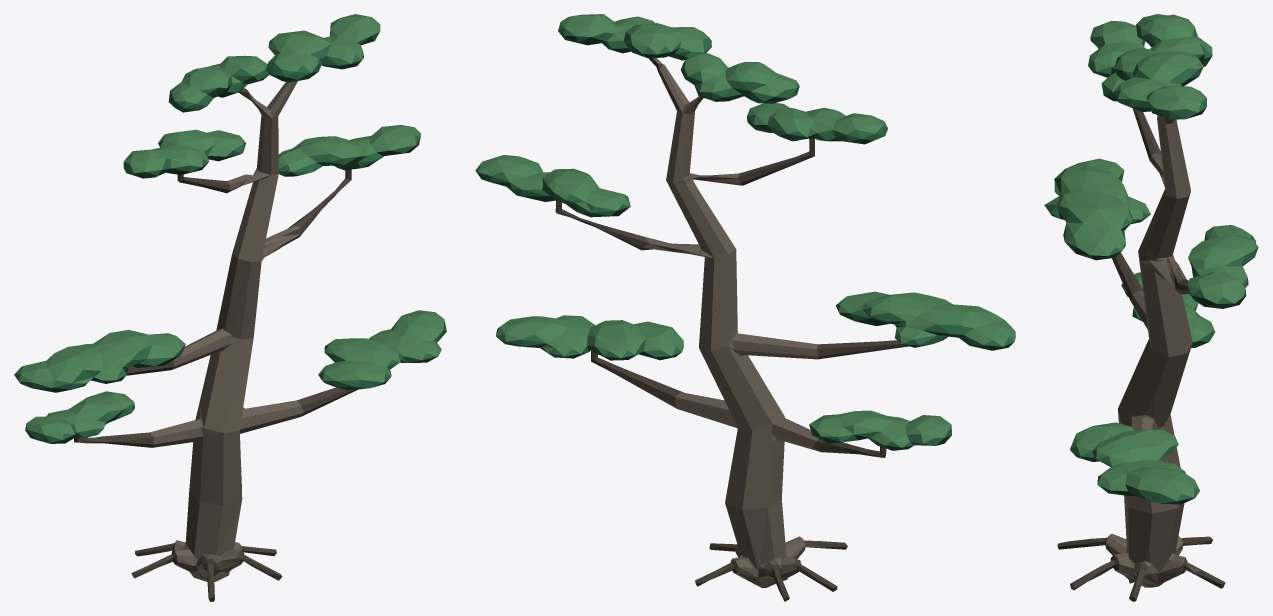
Rendered from ancient-pine-1410-lod1.glb.
The picture shows the model from 3 angles, left to right: view 1: azimuth 30°, elevation 25°; view 2: azimuth 150°, elevation 25°; view 3: azimuth 270°, elevation 25°; orthographic projection. The views are drawn at different scales.
Parts seen in each view (by area): view 1: n12.005, n8.005, n11.005, n9.005, n10.005; view 2: n12.005, n8.005, n11.005, n9.005, n10.005; view 3: n12.005, n8.005, n11.005, n9.005, n10.005.
Part boxes in pixels (bbox=[...]): n12.005: bbox=[14, 14, 444, 439]; n8.005: bbox=[150, 81, 303, 581]; n11.005: bbox=[14, 26, 446, 442]; n9.005: bbox=[74, 88, 357, 601]; n10.005: bbox=[19, 36, 440, 443]; n12.005: bbox=[475, 14, 1015, 447]; n8.005: bbox=[643, 58, 826, 588]; n11.005: bbox=[479, 21, 1015, 447]; n9.005: bbox=[555, 58, 908, 601]; n10.005: bbox=[476, 31, 1013, 450]; n12.005: bbox=[1045, 14, 1258, 500]; n8.005: bbox=[1079, 115, 1200, 587]; n11.005: bbox=[1044, 24, 1258, 503]; n9.005: bbox=[1057, 108, 1225, 601]; n10.005: bbox=[1045, 36, 1251, 504].
Size of the model in its own units: 5.09 by 5.43 by 1.81.
